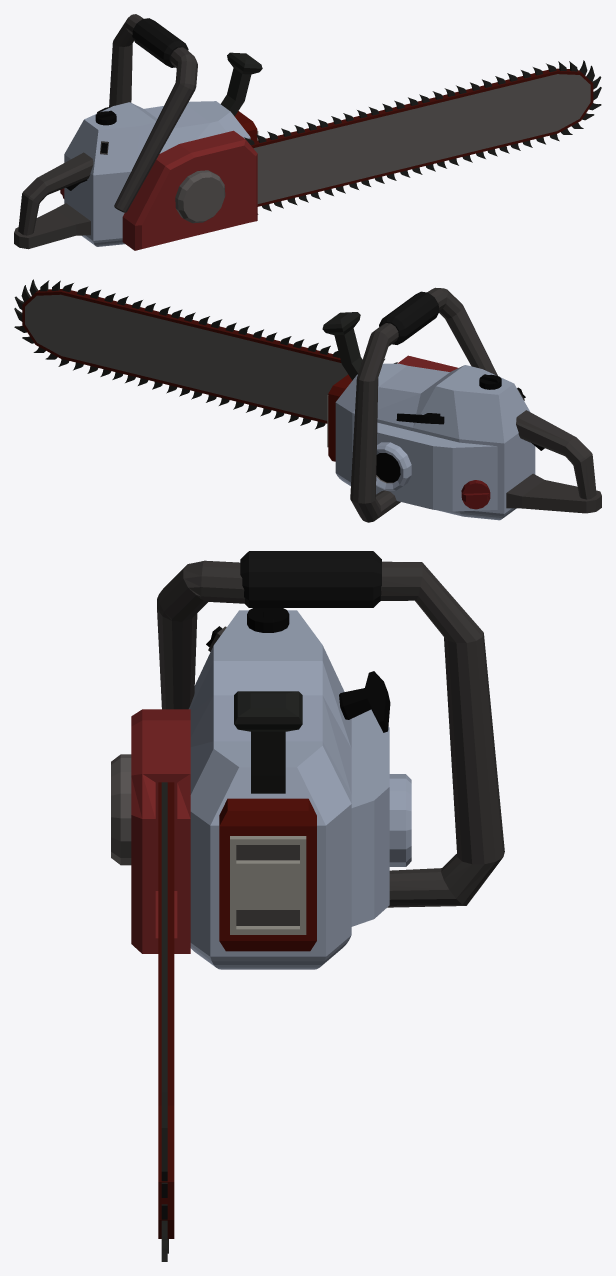
File: o2_GKC_Weapons_Chainsaw.fbx
3 views of the same model, one above another, from view 1: azimuth 30°, elevation 25°; view 2: azimuth 150°, elevation 25°; view 3: azimuth 270°, elevation 25° (orthographic). The views are drawn at different scales.
Parts seen in each view (by area): view 1: o2_Weapons_Chainsaw_GuideBar, o2_GKC_Weapons_Chainsaw, o2_Weapons_Chainsaw_Housing, o2_Weapons_ChainSaw_Handle_02__4_, o2_Weapons_Handle03, o2_Weapons_Chainsaw_Battery; view 2: o2_GKC_Weapons_Chainsaw, o2_Weapons_Chainsaw_GuideBar, o2_Weapons_ChainSaw_Handle_02__4_, o2_Weapons_Handle03, o2_Weapons_Chainsaw_Battery, o2_Weapons_Chainsaw_Oil_Cap, o2_Weapons_Chainsaw_Housing, o2_Props_Starter_Cord; view 3: o2_GKC_Weapons_Chainsaw, o2_Weapons_ChainSaw_Handle_02__4_, o2_Weapons_Chainsaw_Battery, o2_Weapons_Chainsaw_Housing, o2_Weapons_Chainsaw_GuideBar, o2_Weapons_Handle03, o2_Props_Starter_Cord, o2_Weapons_Chainsaw_Fuel_Cap.
Part boxes in pixels (x1,y1,x2,y2): o2_Weapons_Chainsaw_GuideBar: [251, 68, 593, 206]; o2_GKC_Weapons_Chainsaw: [14, 101, 250, 249]; o2_Weapons_Chainsaw_Housing: [122, 130, 257, 250]; o2_Weapons_ChainSaw_Handle_02__4_: [109, 14, 197, 212]; o2_Weapons_Handle03: [221, 52, 262, 116]; o2_Weapons_Chainsaw_Battery: [235, 111, 258, 141]; o2_GKC_Weapons_Chainsaw: [335, 363, 601, 520]; o2_Weapons_Chainsaw_GuideBar: [22, 288, 347, 423]; o2_Weapons_ChainSaw_Handle_02__4_: [350, 287, 497, 522]; o2_Weapons_Handle03: [322, 312, 362, 380]; o2_Weapons_Chainsaw_Battery: [327, 374, 352, 461]; o2_Weapons_Chainsaw_Oil_Cap: [461, 480, 490, 509]; o2_Weapons_Chainsaw_Housing: [397, 355, 457, 371]; o2_Props_Starter_Cord: [396, 413, 444, 424]; o2_GKC_Weapons_Chainsaw: [189, 610, 411, 969]; o2_Weapons_ChainSaw_Handle_02__4_: [157, 551, 504, 907]; o2_Weapons_Chainsaw_Battery: [219, 798, 316, 951]; o2_Weapons_Chainsaw_Housing: [111, 709, 190, 953]; o2_Weapons_Chainsaw_GuideBar: [158, 782, 174, 1238]; o2_Weapons_Handle03: [234, 691, 302, 793]; o2_Props_Starter_Cord: [339, 671, 390, 732]; o2_Weapons_Chainsaw_Fuel_Cap: [247, 608, 289, 632].
Bounding box in the file's own units: 102 × 31.37 × 30.81.
